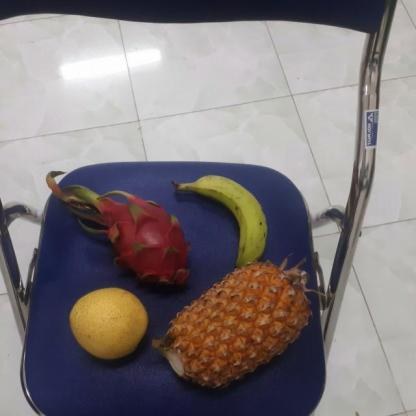banana: (181, 171, 273, 272)
pear: (68, 291, 154, 362)
pineapple: (160, 259, 313, 390)
pitaya: (85, 192, 194, 292)
